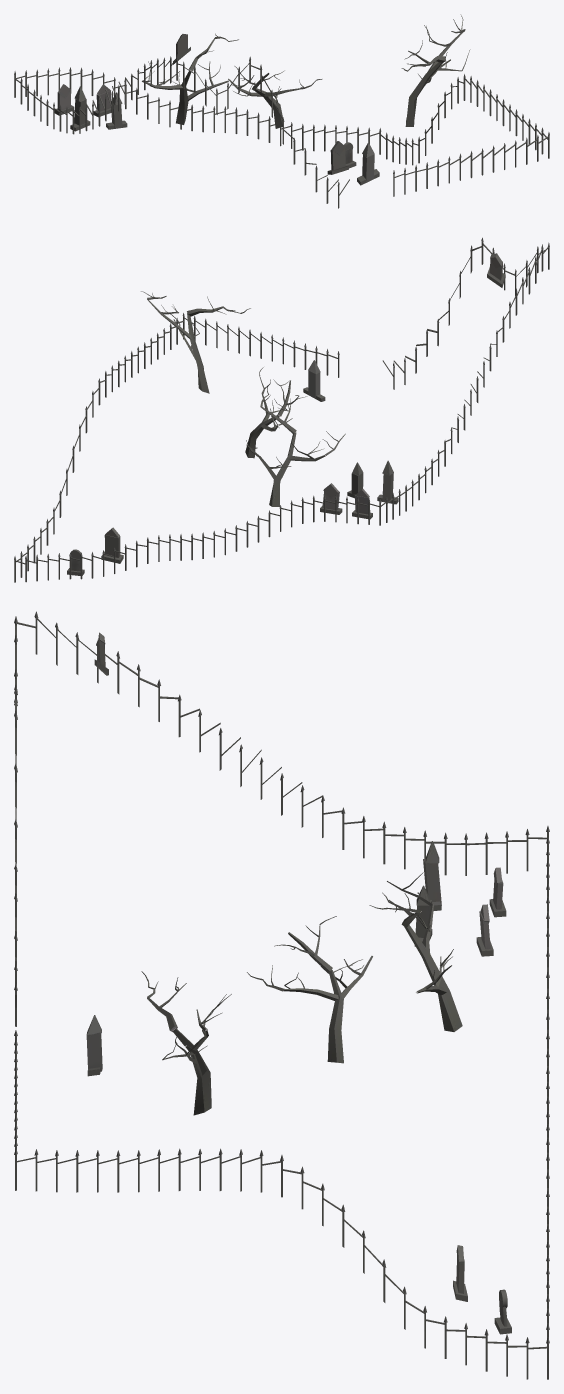
Rendered from graveyard_v8.glb.
The picture shows the model from 3 angles, top to bottom: view 1: azimuth 30°, elevation 25°; view 2: azimuth 150°, elevation 25°; view 3: azimuth 270°, elevation 25°; orthographic projection. The views are drawn at different scales.
Visible parts, largest first — view 1: main; view 2: main; view 3: main.
Part boxes in pixels (x1=…): main: x1=14, y1=14, x2=549, y2=208; main: x1=14, y1=237, x2=549, y2=582; main: x1=14, y1=611, x2=549, y2=1379.
Bounding box in the file's own units: 30.18 × 24.24 × 24.18.
1 material, 1 textured.
